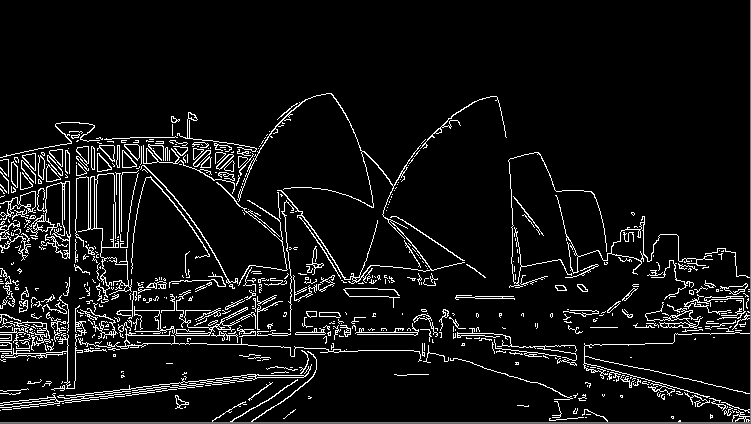opera house: (114, 55, 691, 322)
